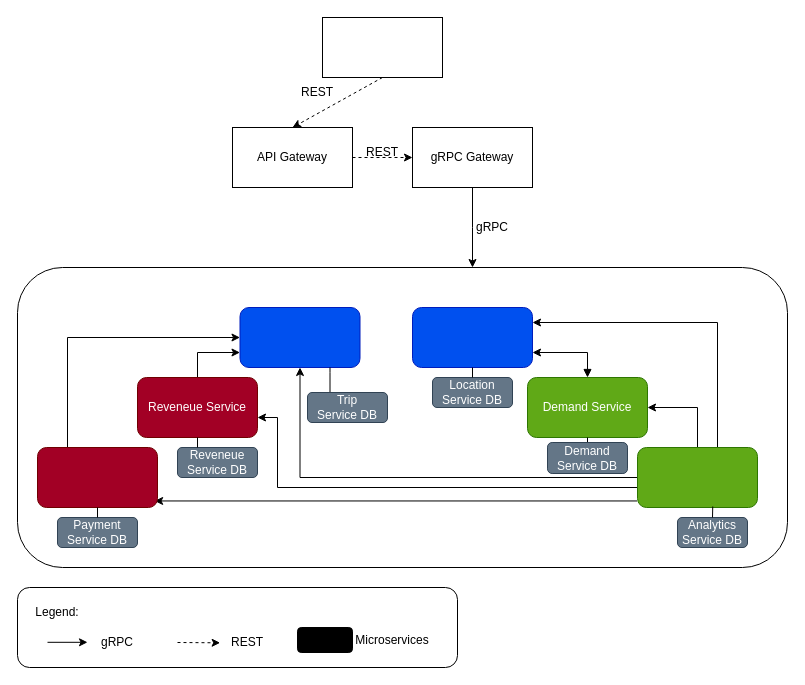
The diagram is 805 pixels wide and 685 high, and some of its shapes have lost their labels. The centre of each missing label's shape, as x and y in pixels:
Analytics Service: (x=697, y=477)
Extermal Service: (x=382, y=47)
Location Service: (x=472, y=337)
Payment Service: (x=97, y=477)
Trip Service: (x=299, y=337)
